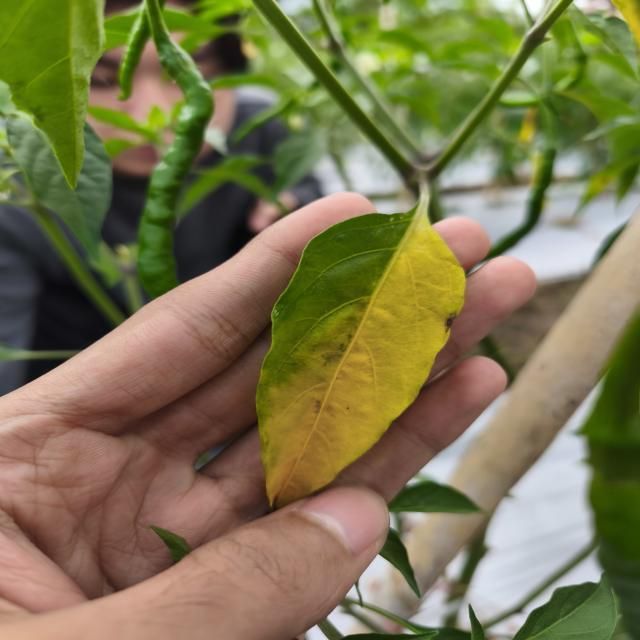Virus Kuning: (254, 207, 467, 512)
